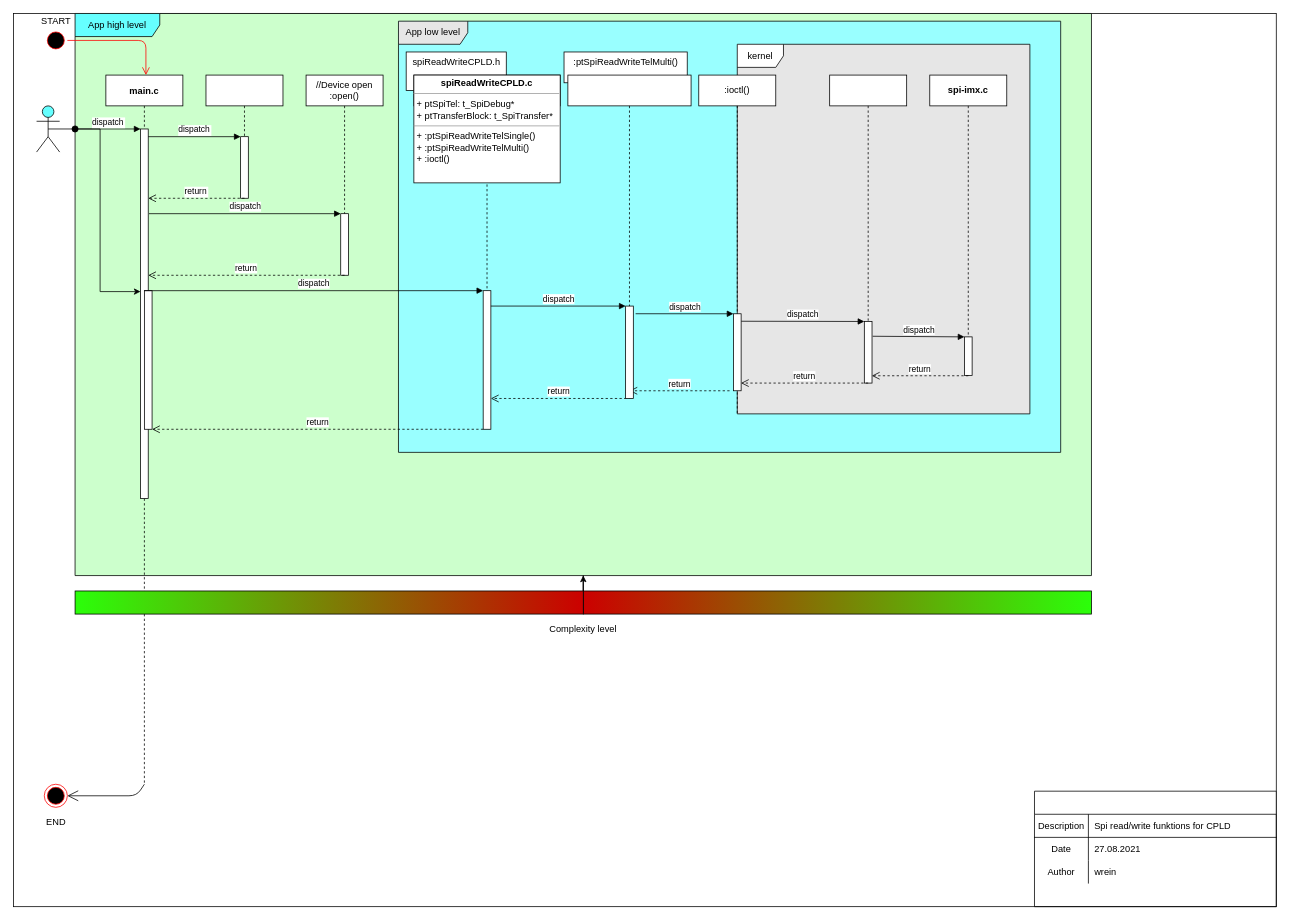
This 1290x920 diagram has some shape labels left out. Here are the shapes that lost their labels. From the top down, the box of each, then its label:
(36, 105, 60, 152): Command line
(205, 74, 283, 198): //Command line :parse_opts()
(567, 74, 691, 398): :ptSpiReadWriteTelSingle()
(829, 74, 907, 383): spidev.c
(1034, 790, 1276, 907): Sequence diagram
